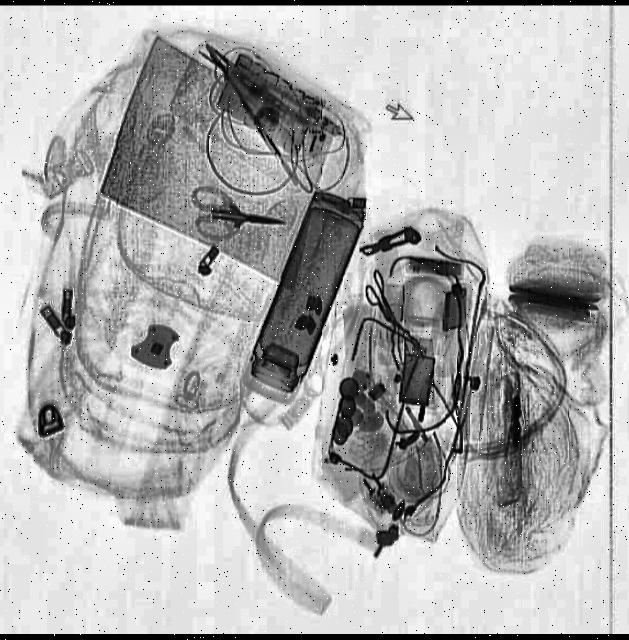Knife: (210, 206, 287, 236)
